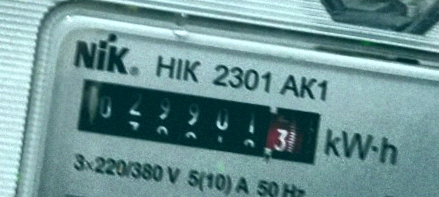0: (93, 90, 115, 120), (212, 102, 232, 133)
1: (243, 106, 259, 135)
2: (124, 89, 146, 118)
3: (269, 125, 290, 153)
9: (153, 93, 173, 122), (184, 99, 201, 127)
screen: (65, 67, 333, 176)
